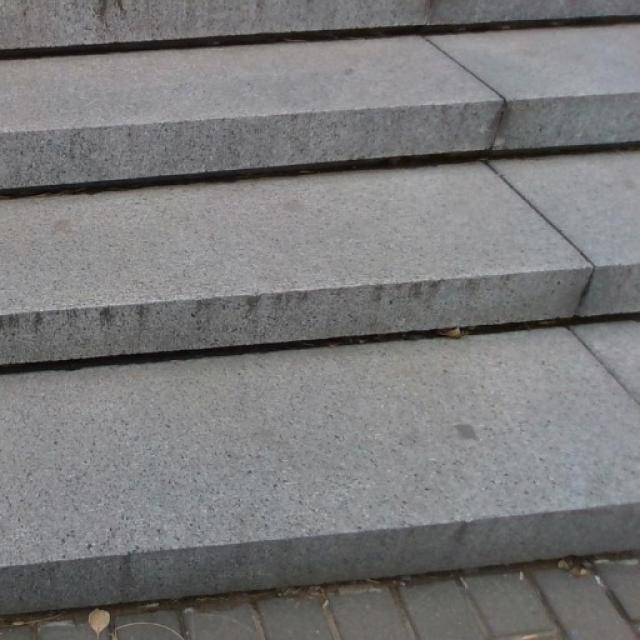Stairs: (0, 0, 639, 628)
